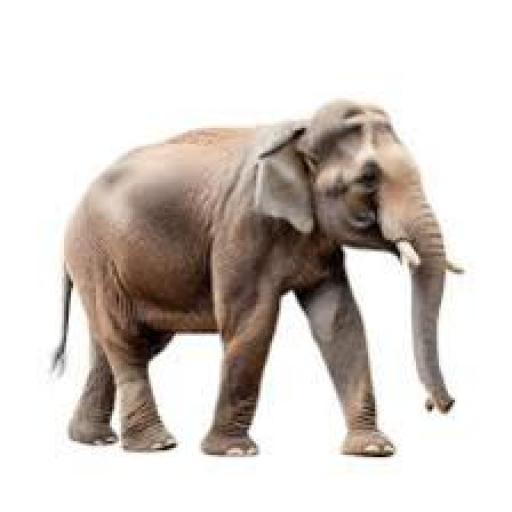Elephant: (65, 100, 454, 455)
